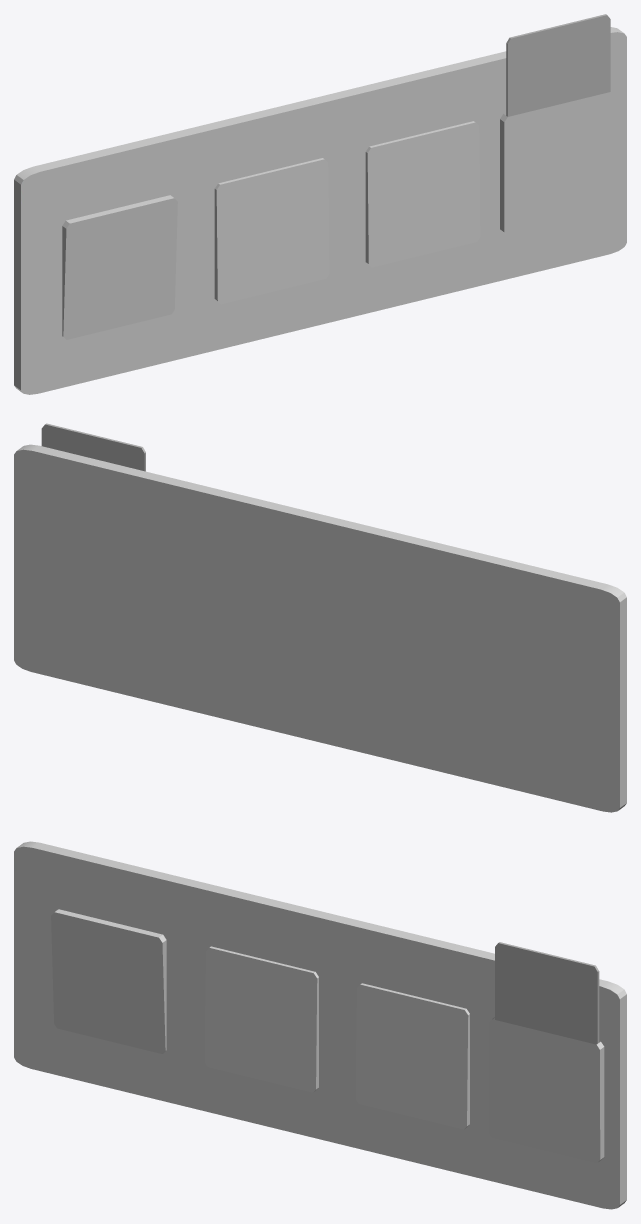
Rendered from LR_CardHolder.fbx.
The picture shows the model from 3 angles, top to bottom: view 1: azimuth 30°, elevation 25°; view 2: azimuth 150°, elevation 25°; view 3: azimuth 330°, elevation 25°; orthographic projection.
Visible parts, largest first — view 1: Card Holder; view 2: Card Holder; view 3: Card Holder.
Boxes of the visible parts, x1,y1,x2,y2 form: Card Holder: (14,14,626,394); Card Holder: (14,423,626,812); Card Holder: (14,841,626,1209).
Bounding box in the file's own units: 0.2995 × 0.1146 × 0.00985.
